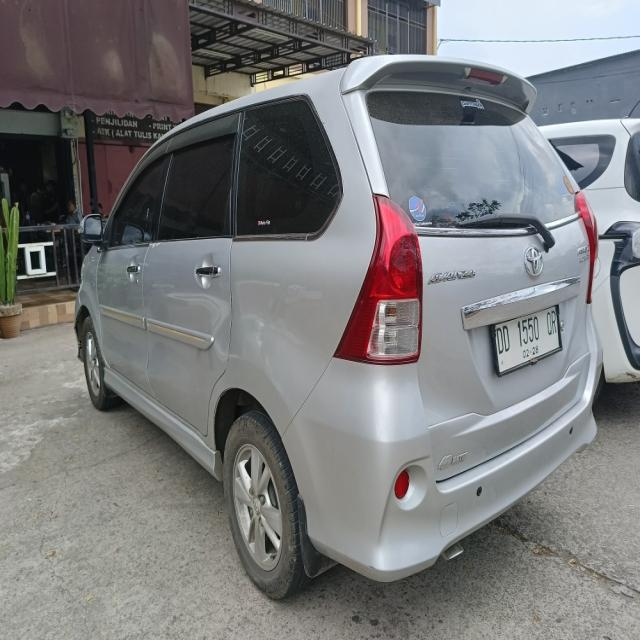plates: (492, 292, 570, 380)
